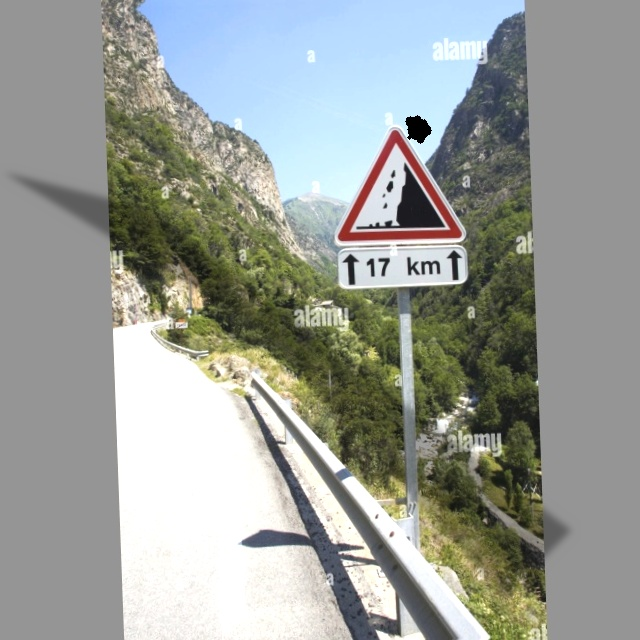Falling_Rocks: (333, 124, 462, 245)
